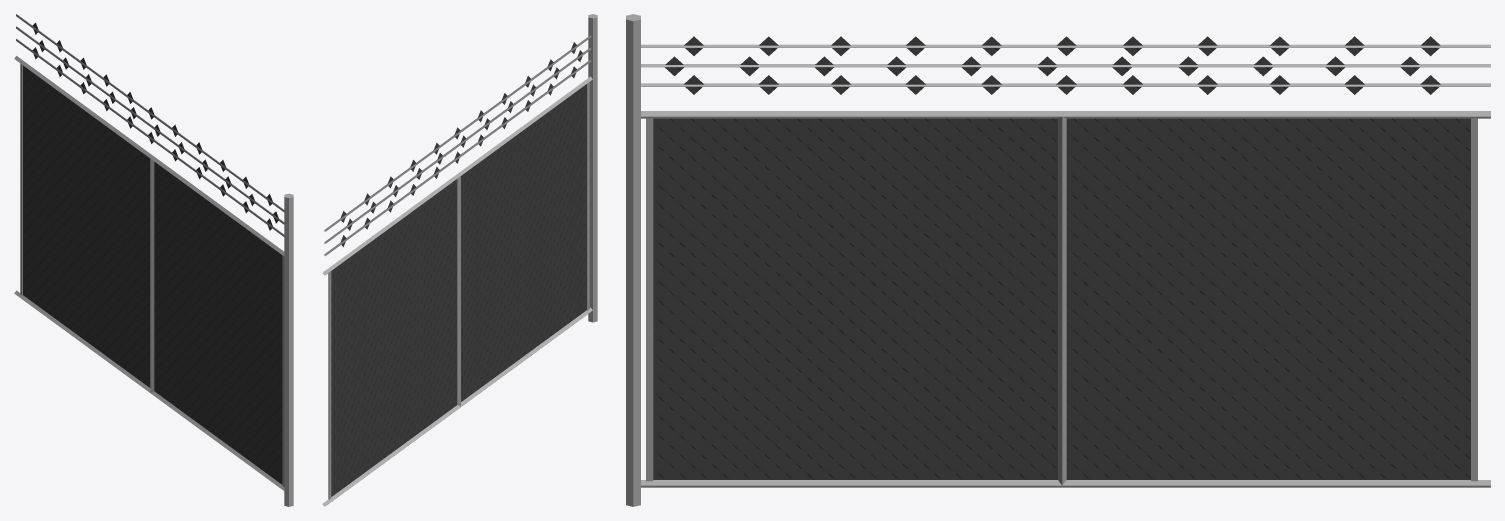
File: SM_fence_104a.gltf
3 renders of one model, left to right at view 1: azimuth 30°, elevation 25°; view 2: azimuth 150°, elevation 25°; view 3: azimuth 270°, elevation 25°, orthographic. The views are drawn at different scales.
Parts seen in each view (by area): view 1: SM_fence_104a; view 2: SM_fence_104a; view 3: SM_fence_104a.
Part boxes in pixels (x1,y1,x2,y2): SM_fence_104a: (14, 14, 293, 506); SM_fence_104a: (322, 14, 597, 506); SM_fence_104a: (626, 14, 1490, 506).
Bounding box in the file's own units: 0.08 × 2.5 × 4.03.
Materials: 2 (2 with a texture image).
